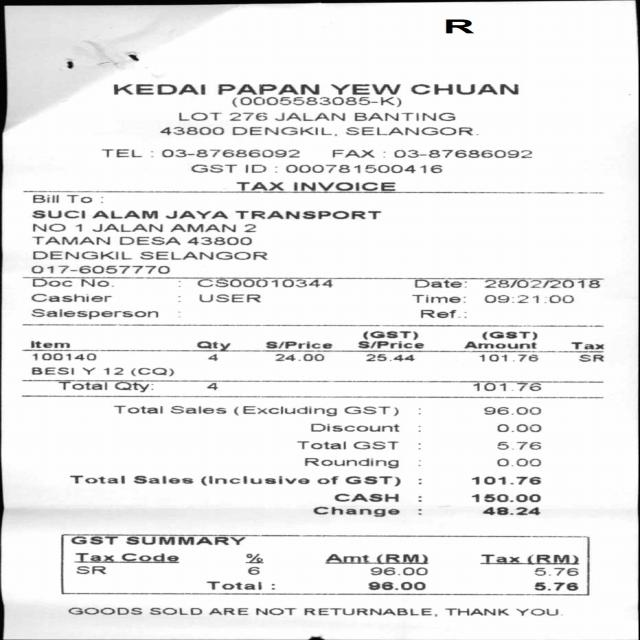text: (232, 96, 400, 108), (286, 164, 441, 174), (31, 308, 157, 320), (235, 210, 380, 220), (393, 149, 531, 159), (197, 278, 331, 288), (31, 265, 169, 274), (233, 405, 335, 417), (410, 83, 518, 94), (217, 84, 318, 95), (161, 149, 298, 157), (201, 476, 309, 486), (303, 608, 437, 616), (125, 536, 244, 545), (344, 127, 477, 135), (139, 252, 266, 260), (113, 84, 205, 95), (31, 250, 130, 260), (312, 506, 398, 517), (304, 458, 398, 468), (483, 280, 599, 288), (293, 182, 395, 191), (354, 112, 454, 121), (231, 126, 331, 135), (330, 83, 400, 95), (310, 423, 398, 432), (30, 293, 111, 302), (484, 295, 574, 303), (32, 237, 109, 246), (472, 382, 540, 392), (274, 112, 344, 121), (471, 476, 540, 485), (471, 493, 540, 502), (481, 506, 540, 516), (358, 340, 423, 349), (333, 493, 398, 502), (68, 607, 141, 615), (92, 210, 156, 219), (187, 237, 251, 246), (464, 341, 536, 349), (370, 566, 427, 576), (164, 210, 227, 219), (92, 224, 162, 232), (160, 126, 222, 135), (362, 330, 417, 340), (343, 406, 398, 416), (131, 475, 192, 484), (345, 476, 399, 486), (265, 341, 332, 349), (68, 475, 126, 484), (376, 553, 428, 563), (205, 581, 262, 590), (170, 224, 234, 232), (444, 608, 508, 616), (169, 405, 225, 414), (198, 294, 260, 302), (32, 353, 94, 361), (481, 331, 536, 340), (112, 381, 153, 393), (119, 237, 180, 245), (411, 294, 465, 303), (31, 210, 84, 219), (478, 354, 537, 362), (414, 279, 466, 288), (526, 554, 578, 563), (120, 553, 178, 561), (367, 582, 425, 590), (420, 309, 465, 319), (484, 407, 540, 415), (58, 381, 107, 390), (297, 441, 346, 450), (444, 19, 473, 34), (148, 607, 202, 615), (236, 182, 283, 191), (71, 536, 117, 545), (352, 441, 397, 450), (495, 458, 540, 467), (323, 553, 368, 562), (274, 354, 324, 362), (191, 164, 235, 173), (129, 368, 173, 377), (496, 441, 540, 450), (365, 354, 414, 362), (113, 406, 162, 414), (534, 567, 577, 576), (534, 582, 577, 591), (178, 112, 220, 121), (332, 149, 374, 158), (31, 278, 71, 287), (496, 424, 540, 432), (74, 552, 113, 561), (515, 608, 558, 616), (228, 112, 266, 121), (32, 367, 74, 375), (196, 341, 229, 351), (254, 608, 295, 616), (101, 149, 141, 157), (81, 278, 113, 288), (480, 554, 518, 562), (32, 223, 65, 232), (569, 341, 604, 349), (208, 608, 247, 615), (30, 341, 68, 348), (31, 194, 57, 203), (66, 194, 92, 203), (76, 566, 105, 574), (578, 354, 603, 362), (315, 475, 337, 484), (245, 553, 263, 564), (245, 164, 266, 173), (103, 367, 122, 375), (81, 367, 94, 375), (246, 567, 259, 575), (243, 224, 255, 232), (207, 382, 217, 390), (208, 354, 217, 361), (75, 224, 82, 232)
